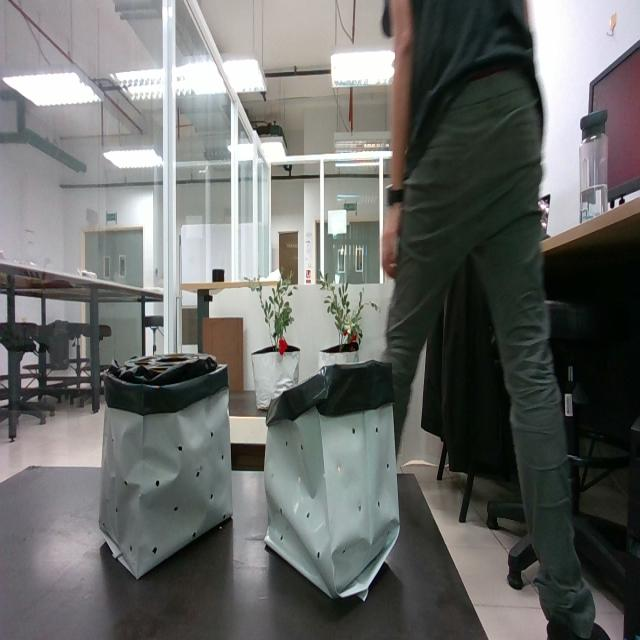Soilbag: (264, 365, 400, 602), (98, 354, 233, 581)
